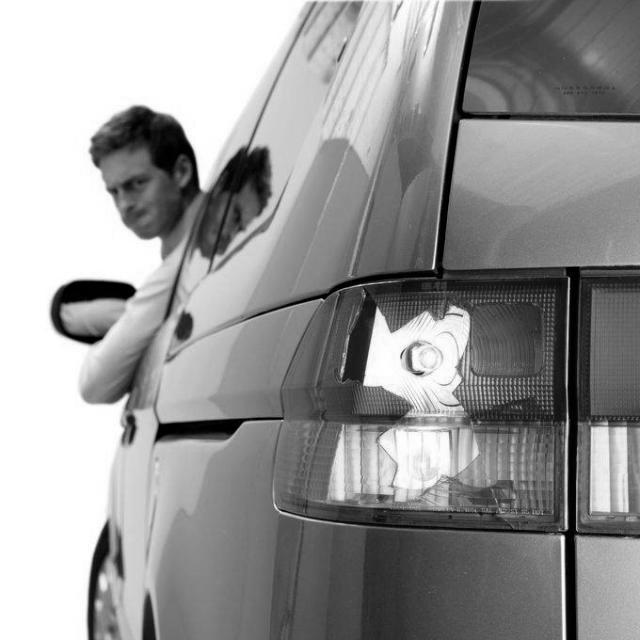Taillight-Damage: (262, 256, 634, 547)
